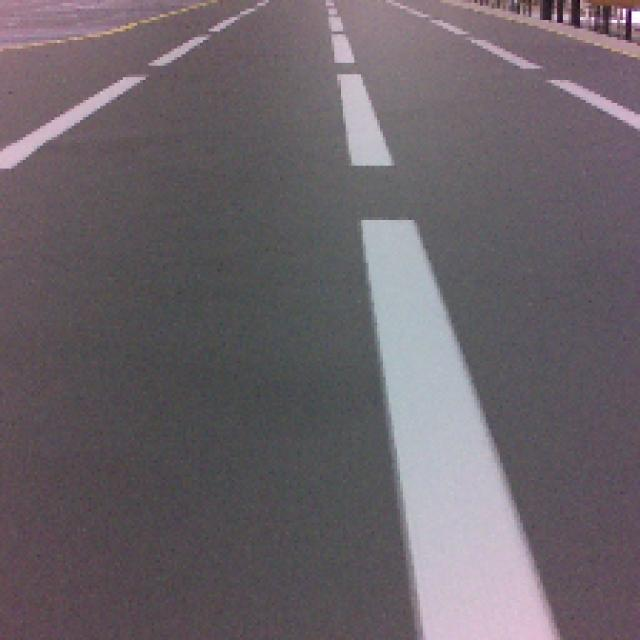Pedestrian crosswalk: (361, 217, 567, 637)
